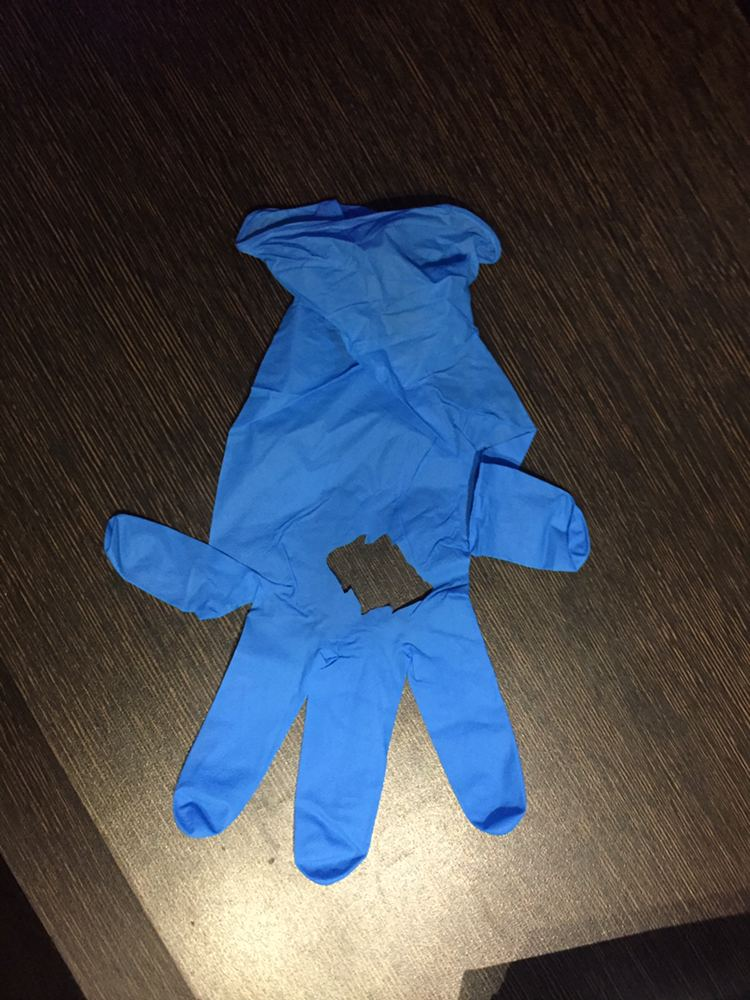defected: (32, 265, 614, 927)
